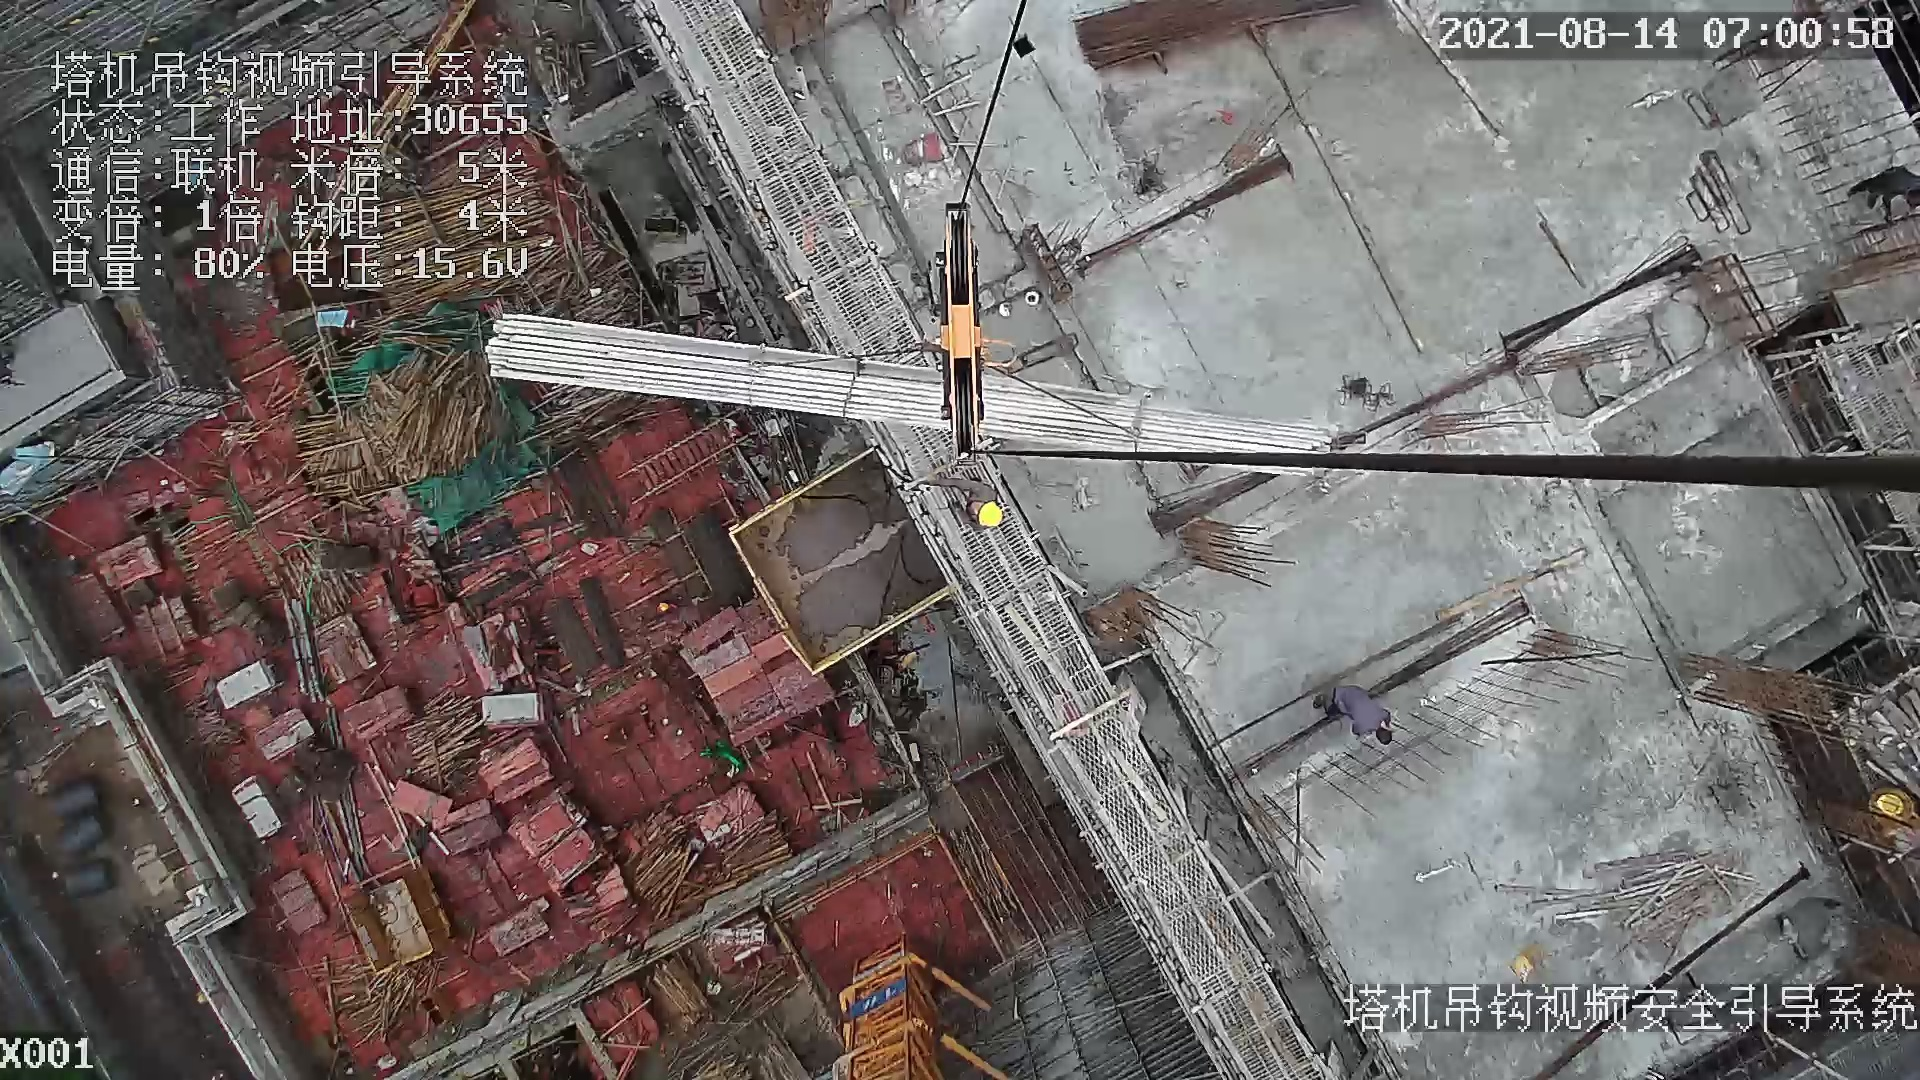helmet: (977, 491, 1011, 533)
hook: (931, 199, 995, 467)
person: (1295, 677, 1415, 745), (954, 483, 1019, 546)
